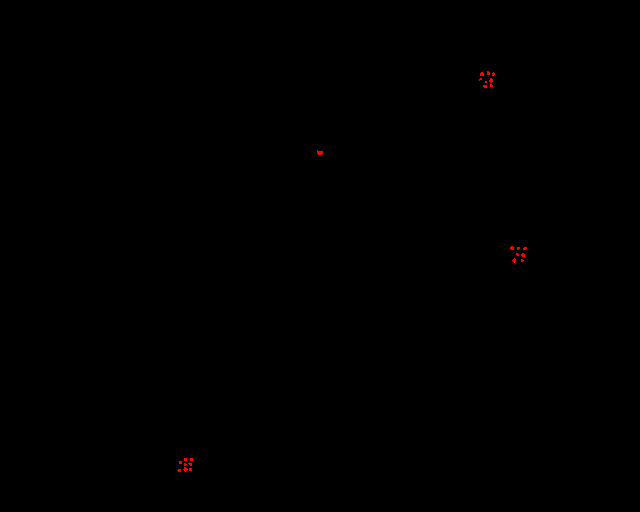Target: (317, 150, 323, 155), (183, 467, 188, 472), (489, 78, 493, 83), (512, 258, 516, 263), (480, 72, 484, 76), (510, 246, 514, 250), (521, 253, 525, 257), (188, 462, 192, 466), (487, 71, 490, 75), (492, 72, 495, 76), (483, 85, 487, 88), (523, 247, 527, 250), (177, 469, 181, 472), (479, 78, 482, 81), (490, 84, 493, 87), (517, 247, 520, 250), (516, 253, 519, 256), (521, 259, 524, 262), (184, 458, 187, 461), (190, 458, 193, 461), (179, 461, 182, 464), (184, 463, 187, 466), (189, 468, 192, 471), (485, 81, 487, 83)
